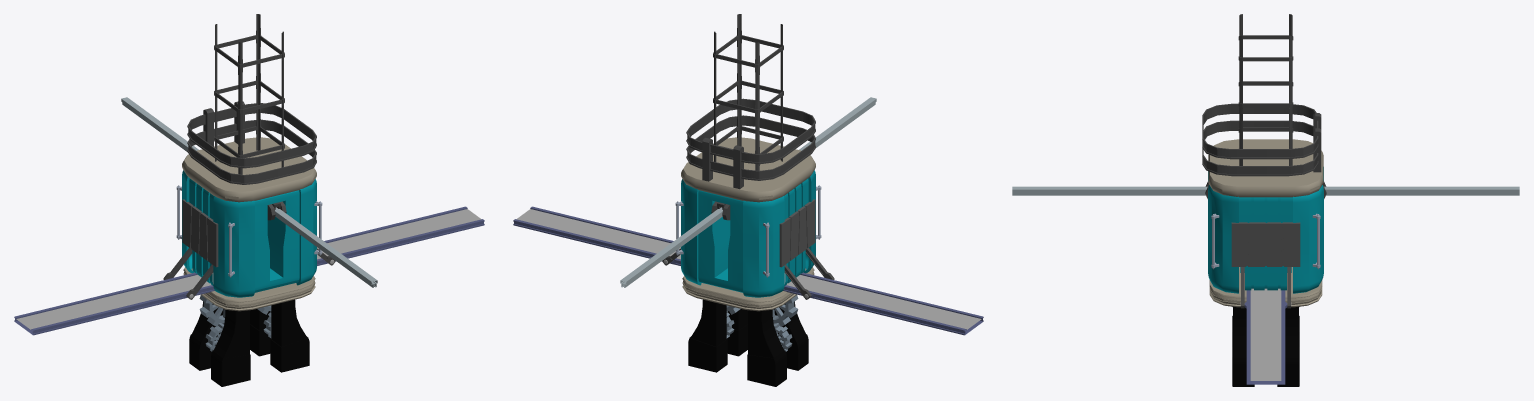
File: engine.fbx
3 renders of one model, left to right at view 1: azimuth 30°, elevation 25°; view 2: azimuth 150°, elevation 25°; view 3: azimuth 270°, elevation 25°, orthographic.
Visible parts, largest first — view 1: machine_7; view 2: machine_7; view 3: machine_7.
Part boxes in pixels (<box>): machine_7: <box>14,14,484,386</box>; machine_7: <box>513,14,983,386</box>; machine_7: <box>1012,14,1519,386</box>.
Bounding box in the file's own units: 1006 × 714 × 966.
